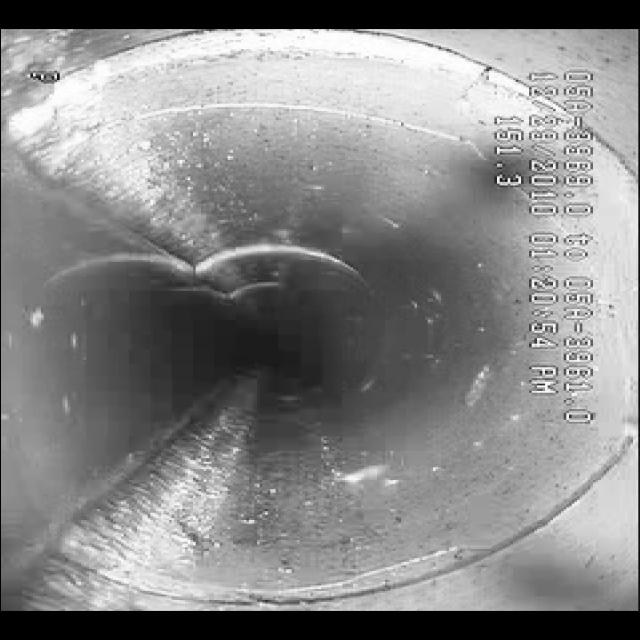Crack: (79, 92, 478, 162)
